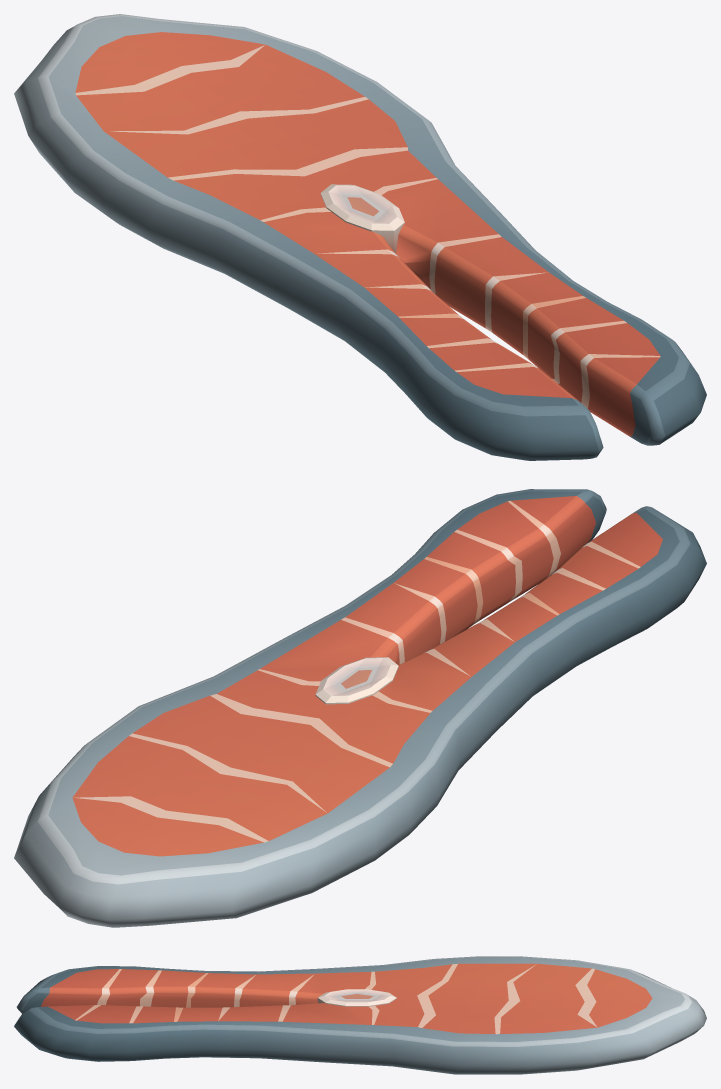
Rendered from fish_005.fbx.
3 renders of one model, top to bottom at view 1: azimuth 30°, elevation 25°; view 2: azimuth 150°, elevation 25°; view 3: azimuth 270°, elevation 25°, orthographic. The views are drawn at different scales.
Visible parts, largest first — view 1: fish_005; view 2: fish_005; view 3: fish_005.
Boxes of the visible parts, bbox=[...] form: fish_005: bbox=[14, 14, 706, 460]; fish_005: bbox=[14, 489, 706, 927]; fish_005: bbox=[14, 956, 706, 1074].
Size of the model in its own units: 9.44 by 28.83 by 1.64.
